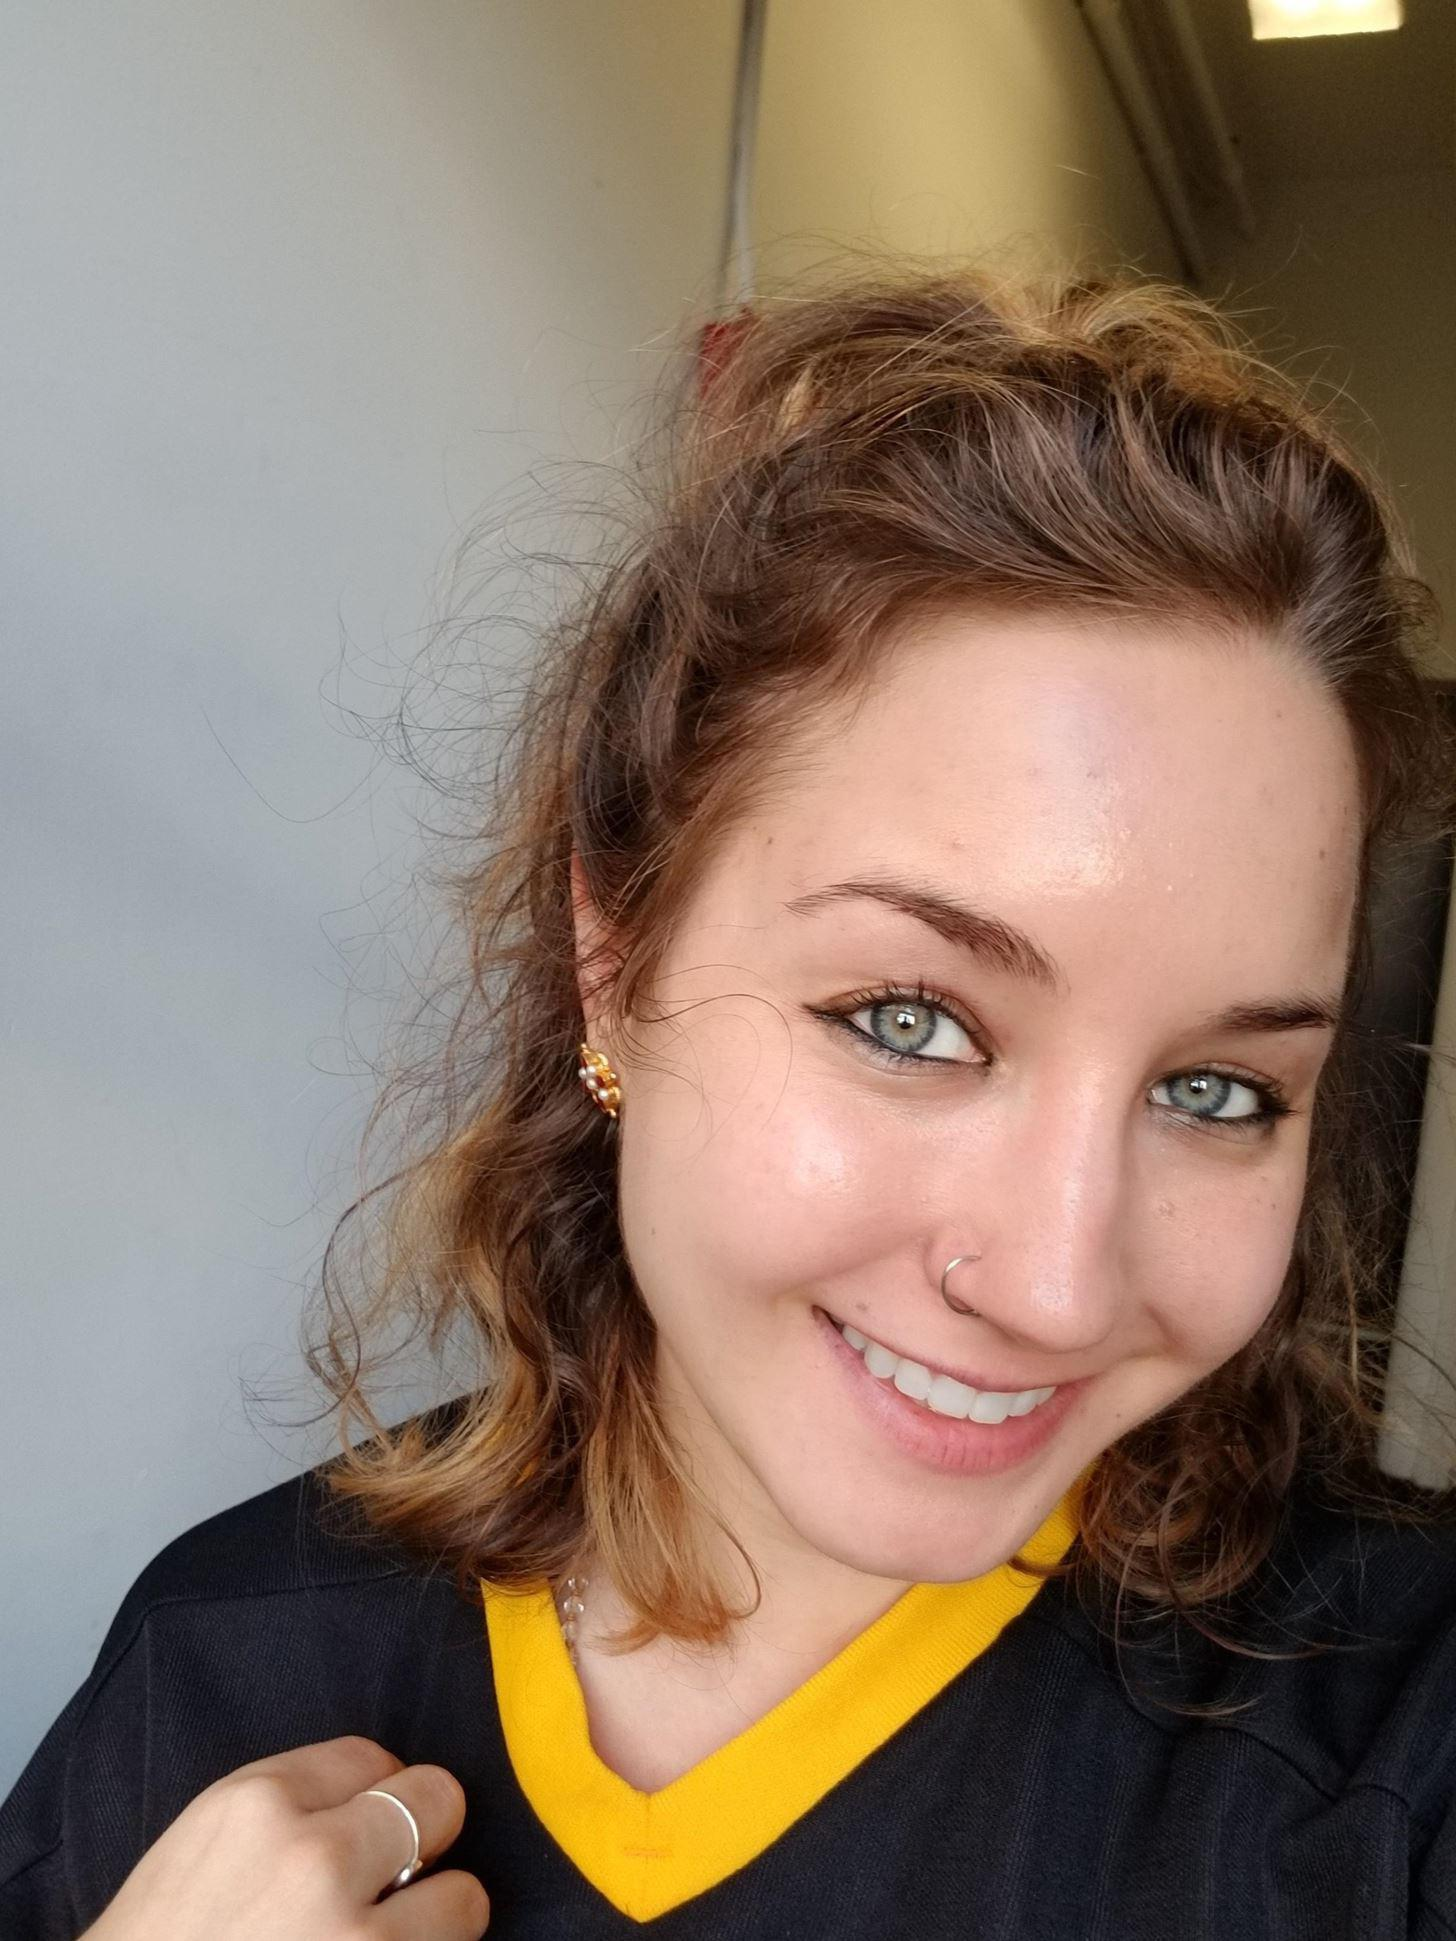face: (615, 604, 1359, 1590)
